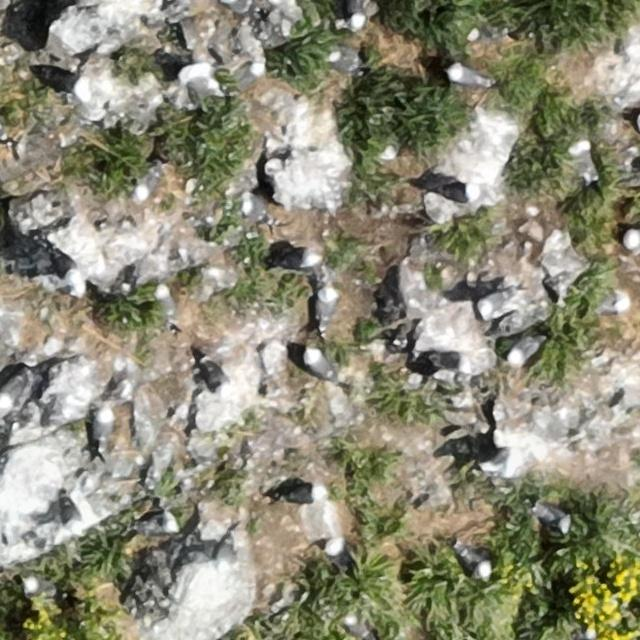umineko: (198, 354, 233, 403), (569, 138, 601, 190), (179, 63, 222, 95), (509, 333, 546, 369), (476, 287, 518, 317), (60, 492, 87, 538), (24, 576, 69, 601), (2, 366, 26, 408), (593, 288, 629, 316), (459, 546, 492, 576), (535, 505, 570, 531), (449, 65, 488, 86), (432, 183, 475, 202), (304, 350, 330, 380), (315, 286, 335, 325), (62, 73, 88, 102), (327, 49, 359, 72), (49, 250, 77, 276), (156, 287, 176, 323), (134, 170, 158, 200), (285, 485, 321, 503), (94, 409, 112, 444), (280, 252, 314, 270), (344, 618, 372, 639), (346, 1, 366, 28), (324, 540, 346, 562), (219, 0, 252, 13)
